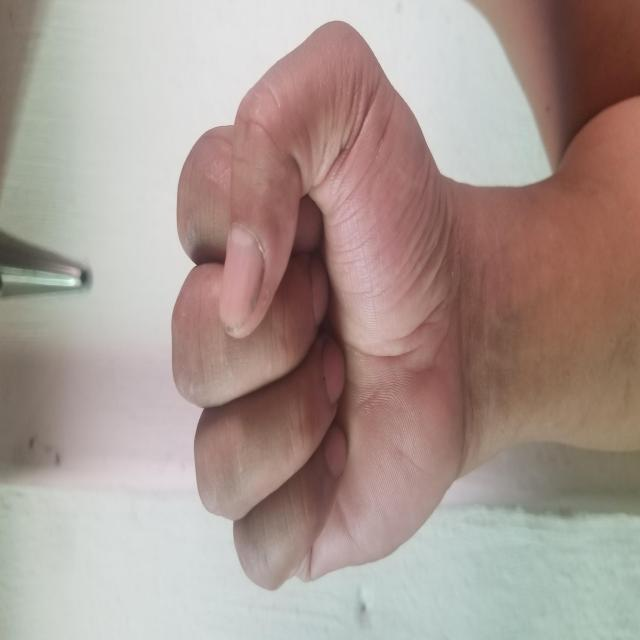S: (48, 171, 622, 461)
